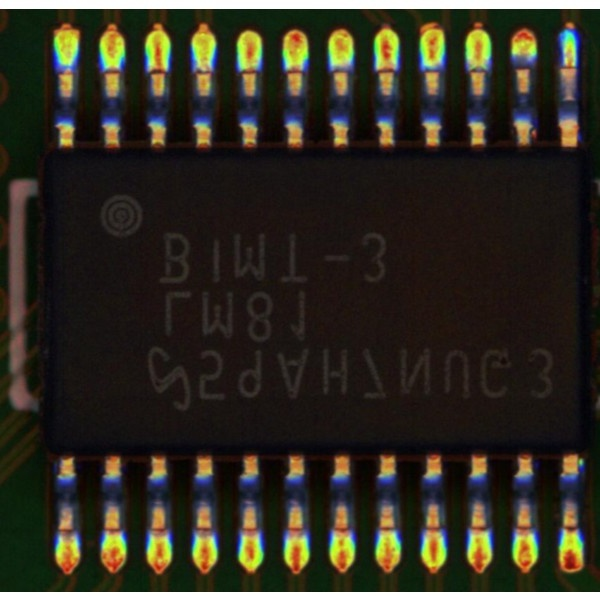Bad_podu: (151, 55, 163, 85), (336, 519, 348, 545), (564, 54, 574, 79)
